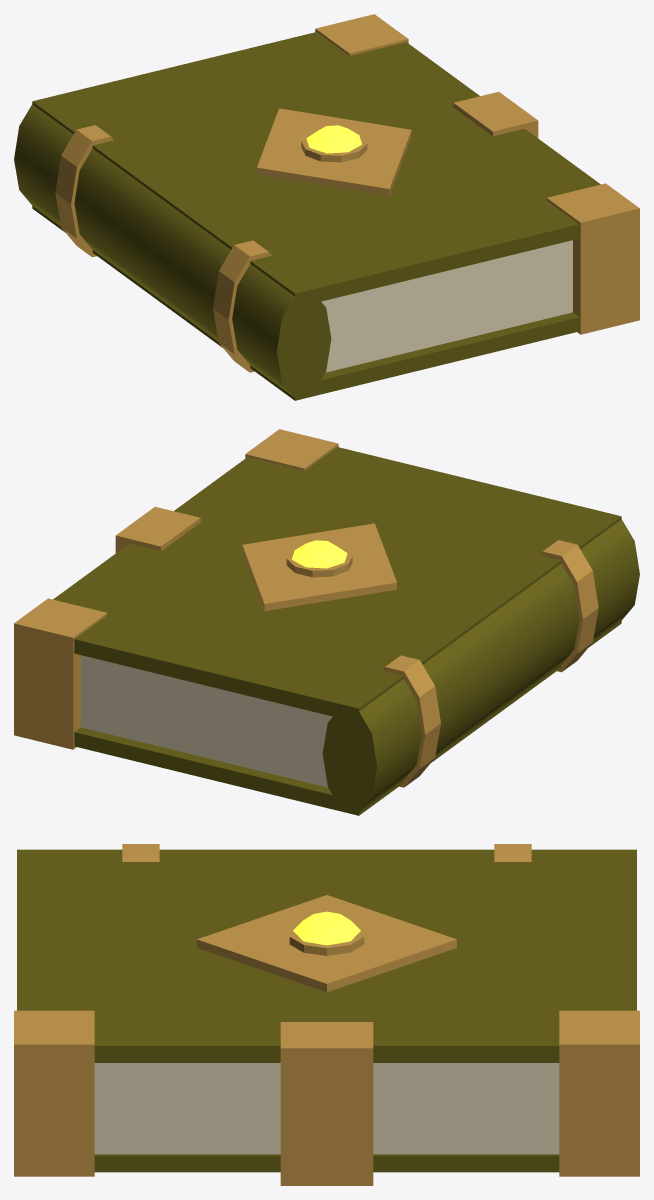
File: tome_lightning.glb
The picture shows the model from 3 angles, top to bottom: view 1: azimuth 30°, elevation 25°; view 2: azimuth 150°, elevation 25°; view 3: azimuth 270°, elevation 25°; orthographic projection. The views are drawn at different scales.
Parts seen in each view (by area): view 1: Tome_Lightning_Tome_lightning, Tome_Lightning_Brass, Tome_Lightning_Paper, Tome_Lightning_Gem_lightning; view 2: Tome_Lightning_Tome_lightning, Tome_Lightning_Brass, Tome_Lightning_Paper, Tome_Lightning_Gem_lightning; view 3: Tome_Lightning_Tome_lightning, Tome_Lightning_Brass, Tome_Lightning_Paper, Tome_Lightning_Gem_lightning.
Part boxes in pixels (x1,y1,x2,y2): Tome_Lightning_Tome_lightning: (14,32,600,400); Tome_Lightning_Brass: (55,14,639,372); Tome_Lightning_Paper: (321,240,572,372); Tome_Lightning_Gem_lightning: (306,125,361,153); Tome_Lightning_Tome_lightning: (53,447,639,815); Tome_Lightning_Brass: (14,429,598,787); Tome_Lightning_Paper: (81,655,332,787); Tome_Lightning_Gem_lightning: (292,540,347,568); Tome_Lightning_Tome_lightning: (17,849,636,1172); Tome_Lightning_Brass: (14,844,639,1185); Tome_Lightning_Paper: (94,1063,559,1154); Tome_Lightning_Gem_lightning: (293,911,360,945).
Bounding box in the file's own units: 0.1655 × 0.0571 × 0.202.
